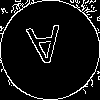A: (25, 25, 65, 75)
